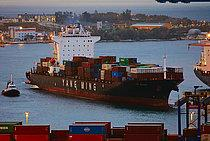Ship: (21, 22, 187, 116)
